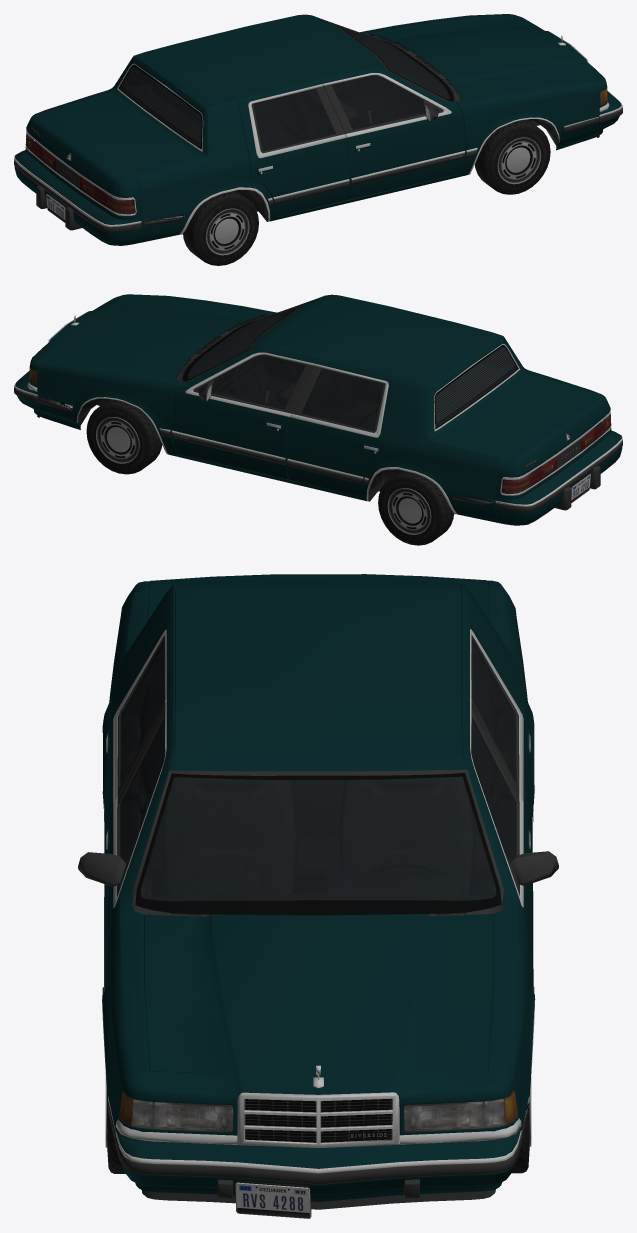
File: riverside.glb
3 views of the same model, one above another, from view 1: azimuth 30°, elevation 25°; view 2: azimuth 150°, elevation 25°; view 3: azimuth 270°, elevation 25° (orthographic). The views are drawn at different scales.
Visible parts, largest first — view 1: Riverside88_Body_Riverside88_Bodymat_0, Riverside88_Interior_UCB_Interiors_2_0, Riverside88_Hood_Riverside88_Bodymat_0, Riverside88_bottom_UCB_BOTTOM_0, Riverside88_Trunk_door_Riverside88_Bodymat_0, Riverside88_WheelStock_FR_RB1c_Tire_1k_0, Riverside88_WheelStock_RR_RB1c_Tire_1k_0, Riverside88_Body_Glass_UCB_Lights_and_Glass_Transperent_0, Riverside88_Glass_Passenger_UCB_Lights_and_Glass_Transperent, Riverside88_Rear_window_UCB_Lights_and_Glass_Transperent_0, Riverside88_Bumper_rear_Riverside88_Bodymat_0, Riverside88_Windshield_UCB_Lights_and_Glass_Transperent_0 (+3 smaller); view 2: Riverside88_Body_Riverside88_Bodymat_0, Riverside88_Interior_UCB_Interiors_2_0, Riverside88_bottom_UCB_BOTTOM_0, Riverside88_Hood_Riverside88_Bodymat_0, Riverside88_Trunk_door_Riverside88_Bodymat_0, Riverside88_WheelStock_FL_RB1c_Tire_1k_0, Riverside88_WheelStock_FR_RB1c_Tire_1k_0, Riverside88_Body_Glass_UCB_Lights_and_Glass_Transperent_0, Riverside88_Glass_Driver_UCB_Lights_and_Glass_Transperent_0, Riverside88_Rear_window_UCB_Lights_and_Glass_Transperent_0, Riverside88_Bumper_rear_Riverside88_Bodymat_0, Riverside88_Windshield_UCB_Lights_and_Glass_Transperent_0 (+3 smaller); view 3: Riverside88_Body_Riverside88_Bodymat_0, Riverside88_Hood_Riverside88_Bodymat_0, Riverside88_Interior_UCB_Interiors_2_0, Riverside88_Windshield_UCB_Lights_and_Glass_Transperent_0, Riverside88_bottom_UCB_BOTTOM_0, Riverside88_Bumper_Front_Riverside88_Bodymat_0, Riverside88_Bumper_Front_inner_UCB_BOTTOM_0, Riverside88_Headlights_Glass_UCB_Lights_and_Glass_Transperen, Riverside88_Body_Glass_UCB_Lights_and_Glass_Transperent_0, Riverside88_Headlights_UCB_Lights_and_Glass_0, Riverside88_Glass_Driver_UCB_Lights_and_Glass_Transperent_0, Riverside88_Glass_Passenger_UCB_Lights_and_Glass_Transperent (+2 smaller).
Boxes of the visible parts, left/top/right/bottom form: Riverside88_Body_Riverside88_Bodymat_0: left=25, top=14, right=607, bottom=242; Riverside88_Interior_UCB_Interiors_2_0: left=120, top=26, right=464, bottom=200; Riverside88_Hood_Riverside88_Bodymat_0: left=373, top=16, right=592, bottom=98; Riverside88_bottom_UCB_BOTTOM_0: left=25, top=18, right=609, bottom=234; Riverside88_Trunk_door_Riverside88_Bodymat_0: left=28, top=89, right=202, bottom=194; Riverside88_WheelStock_FR_RB1c_Tire_1k_0: left=475, top=119, right=550, bottom=194; Riverside88_WheelStock_RR_RB1c_Tire_1k_0: left=183, top=190, right=258, bottom=265; Riverside88_Body_Glass_UCB_Lights_and_Glass_Transperent_0: left=253, top=89, right=335, bottom=151; Riverside88_Glass_Passenger_UCB_Lights_and_Glass_Transperent: left=332, top=76, right=425, bottom=130; Riverside88_Rear_window_UCB_Lights_and_Glass_Transperent_0: left=120, top=66, right=201, bottom=147; Riverside88_Bumper_rear_Riverside88_Bodymat_0: left=14, top=150, right=141, bottom=245; Riverside88_Windshield_UCB_Lights_and_Glass_Transperent_0: left=323, top=19, right=449, bottom=99; Riverside88_Body_Riverside88_Bodymat_0: left=29, top=294, right=611, bottom=522; Riverside88_Interior_UCB_Interiors_2_0: left=172, top=307, right=516, bottom=479; Riverside88_bottom_UCB_BOTTOM_0: left=27, top=297, right=611, bottom=514; Riverside88_Hood_Riverside88_Bodymat_0: left=45, top=296, right=263, bottom=378; Riverside88_Trunk_door_Riverside88_Bodymat_0: left=435, top=370, right=608, bottom=474; Riverside88_WheelStock_FL_RB1c_Tire_1k_0: left=86, top=399, right=162, bottom=474; Riverside88_WheelStock_FR_RB1c_Tire_1k_0: left=378, top=470, right=453, bottom=545; Riverside88_Body_Glass_UCB_Lights_and_Glass_Transperent_0: left=301, top=369, right=383, bottom=431; Riverside88_Glass_Driver_UCB_Lights_and_Glass_Transperent_0: left=211, top=356, right=305, bottom=409; Riverside88_Rear_window_UCB_Lights_and_Glass_Transperent_0: left=435, top=347, right=517, bottom=427; Riverside88_Bumper_rear_Riverside88_Bodymat_0: left=495, top=430, right=622, bottom=525; Riverside88_Windshield_UCB_Lights_and_Glass_Transperent_0: left=187, top=300, right=312, bottom=378; Riverside88_Body_Riverside88_Bodymat_0: left=102, top=579, right=534, bottom=1135; Riverside88_Hood_Riverside88_Bodymat_0: left=144, top=914, right=492, bottom=1073; Riverside88_Interior_UCB_Interiors_2_0: left=121, top=642, right=515, bottom=900; Riverside88_Windshield_UCB_Lights_and_Glass_Transperent_0: left=140, top=776, right=496, bottom=901; Riverside88_bottom_UCB_BOTTOM_0: left=78, top=629, right=558, bottom=1148; Riverside88_Bumper_Front_Riverside88_Bodymat_0: left=116, top=1128, right=521, bottom=1201; Riverside88_Bumper_Front_inner_UCB_BOTTOM_0: left=115, top=1130, right=521, bottom=1216; Riverside88_Headlights_Glass_UCB_Lights_and_Glass_Transperen: left=119, top=1090, right=517, bottom=1132; Riverside88_Body_Glass_UCB_Lights_and_Glass_Transperent_0: left=120, top=640, right=516, bottom=784; Riverside88_Headlights_UCB_Lights_and_Glass_0: left=132, top=1099, right=505, bottom=1131; Riverside88_Glass_Driver_UCB_Lights_and_Glass_Transperent_0: left=472, top=717, right=516, bottom=862; Riverside88_Glass_Passenger_UCB_Lights_and_Glass_Transperent: left=120, top=717, right=164, bottom=863.
Size of the model in its own units: 4.91 by 1.32 by 1.91.
Materials: 8 (7 with a texture image).
